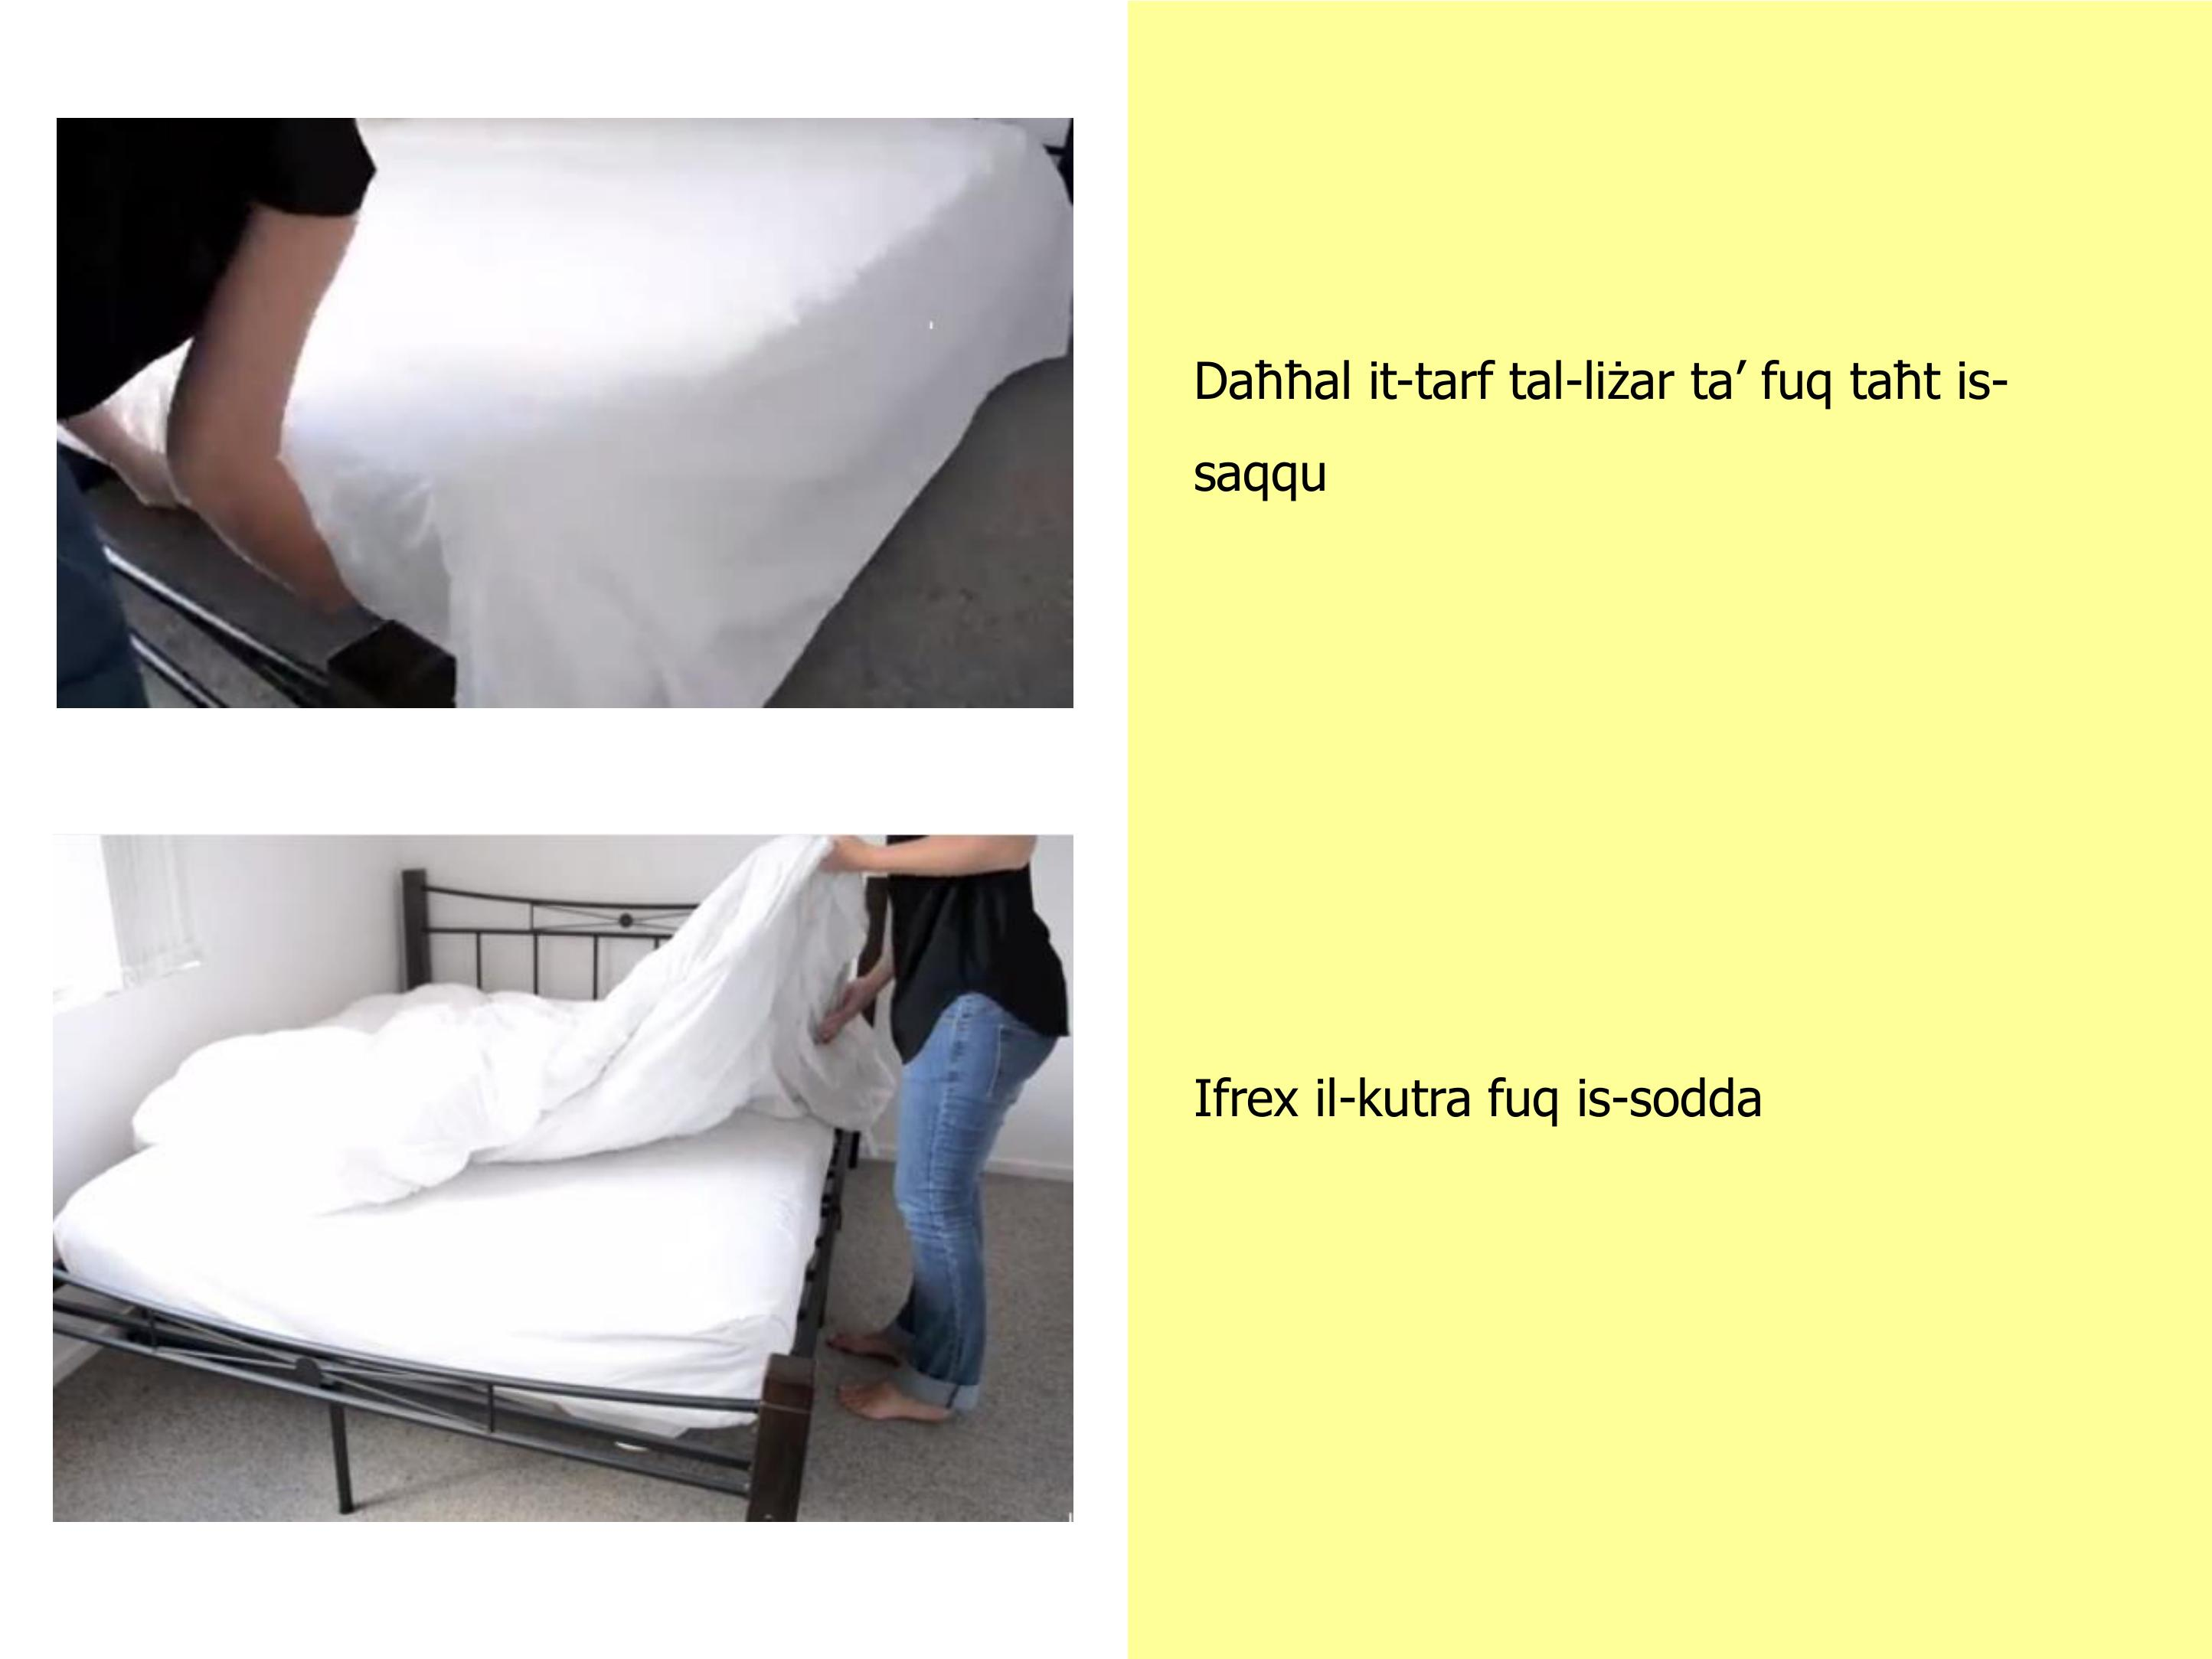text: (1166, 333, 2057, 1168)
